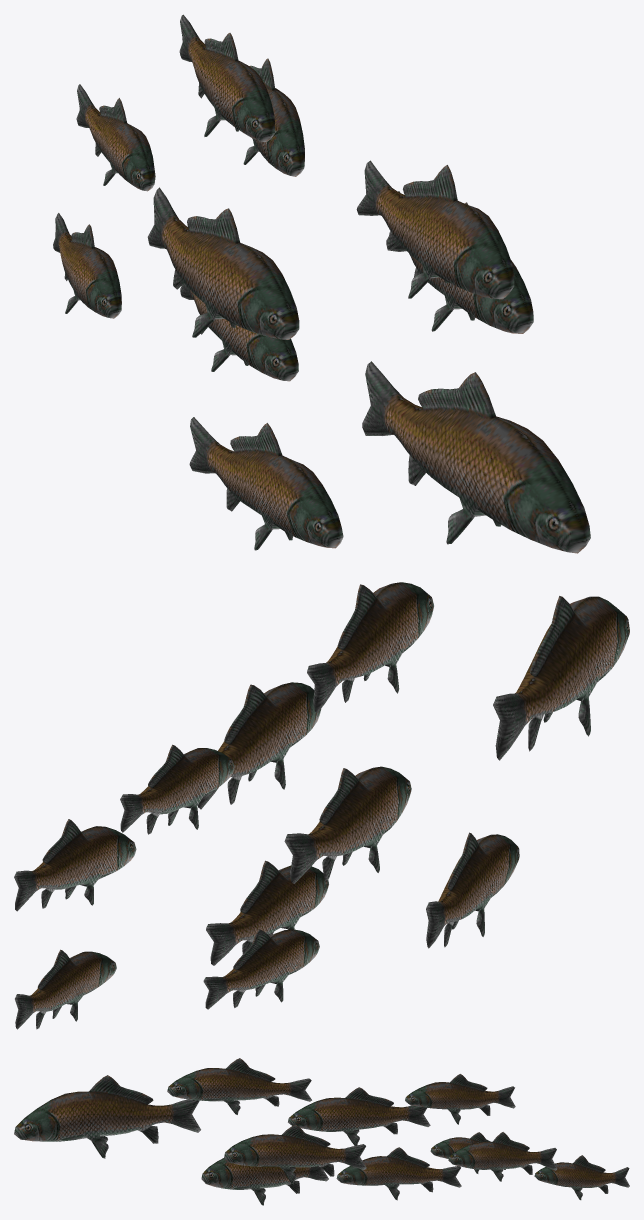
File: fishschool.glb
The picture shows the model from 3 angles, top to bottom: view 1: azimuth 30°, elevation 25°; view 2: azimuth 150°, elevation 25°; view 3: azimuth 270°, elevation 25°; orthographic projection. The views are drawn at different scales.
Visible parts, largest first — view 1: mesh_0; view 2: mesh_0; view 3: mesh_0.
Part boxes in pixels (x1,y1,x2,y2): mesh_0: (53, 14, 590, 553); mesh_0: (14, 582, 629, 1029); mesh_0: (14, 1058, 629, 1205).
Size of the model in its own units: 0.878 by 1.12 by 3.47.
Materials: 1 (1 with a texture image).
